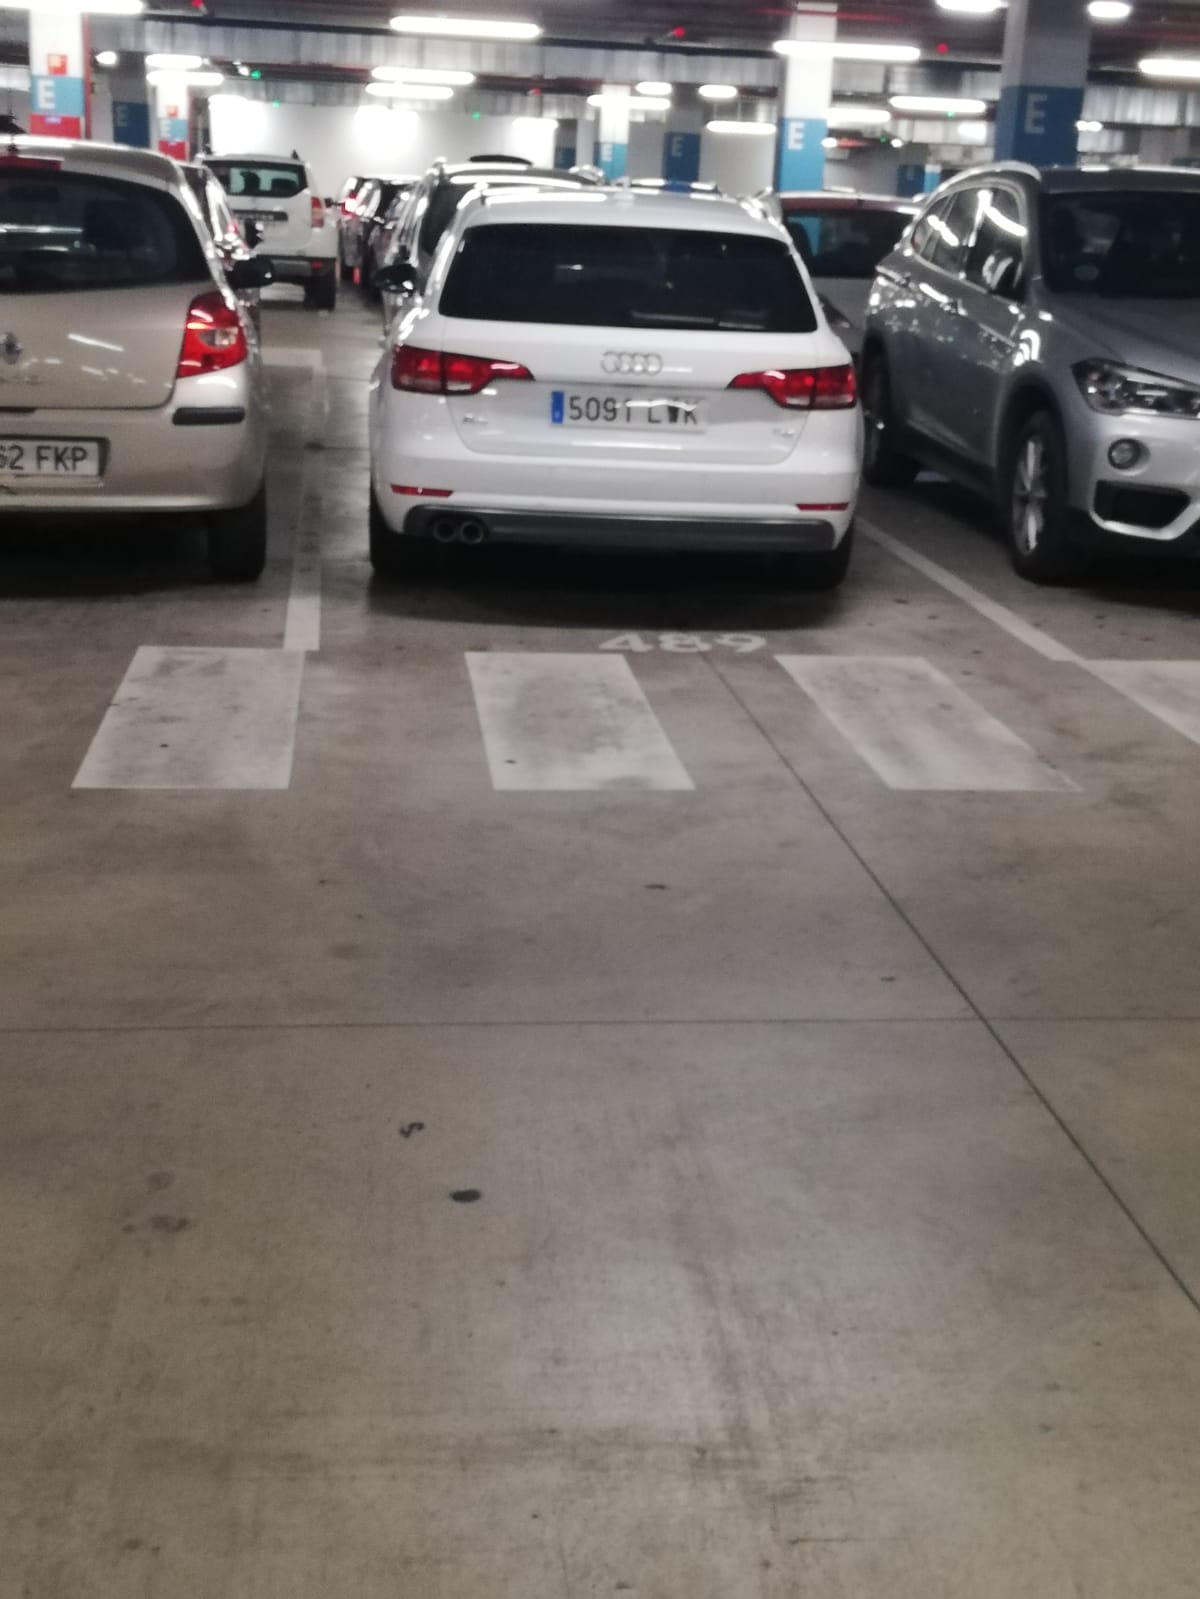Car: (376, 180, 867, 610)
Plate: (548, 388, 701, 427)
